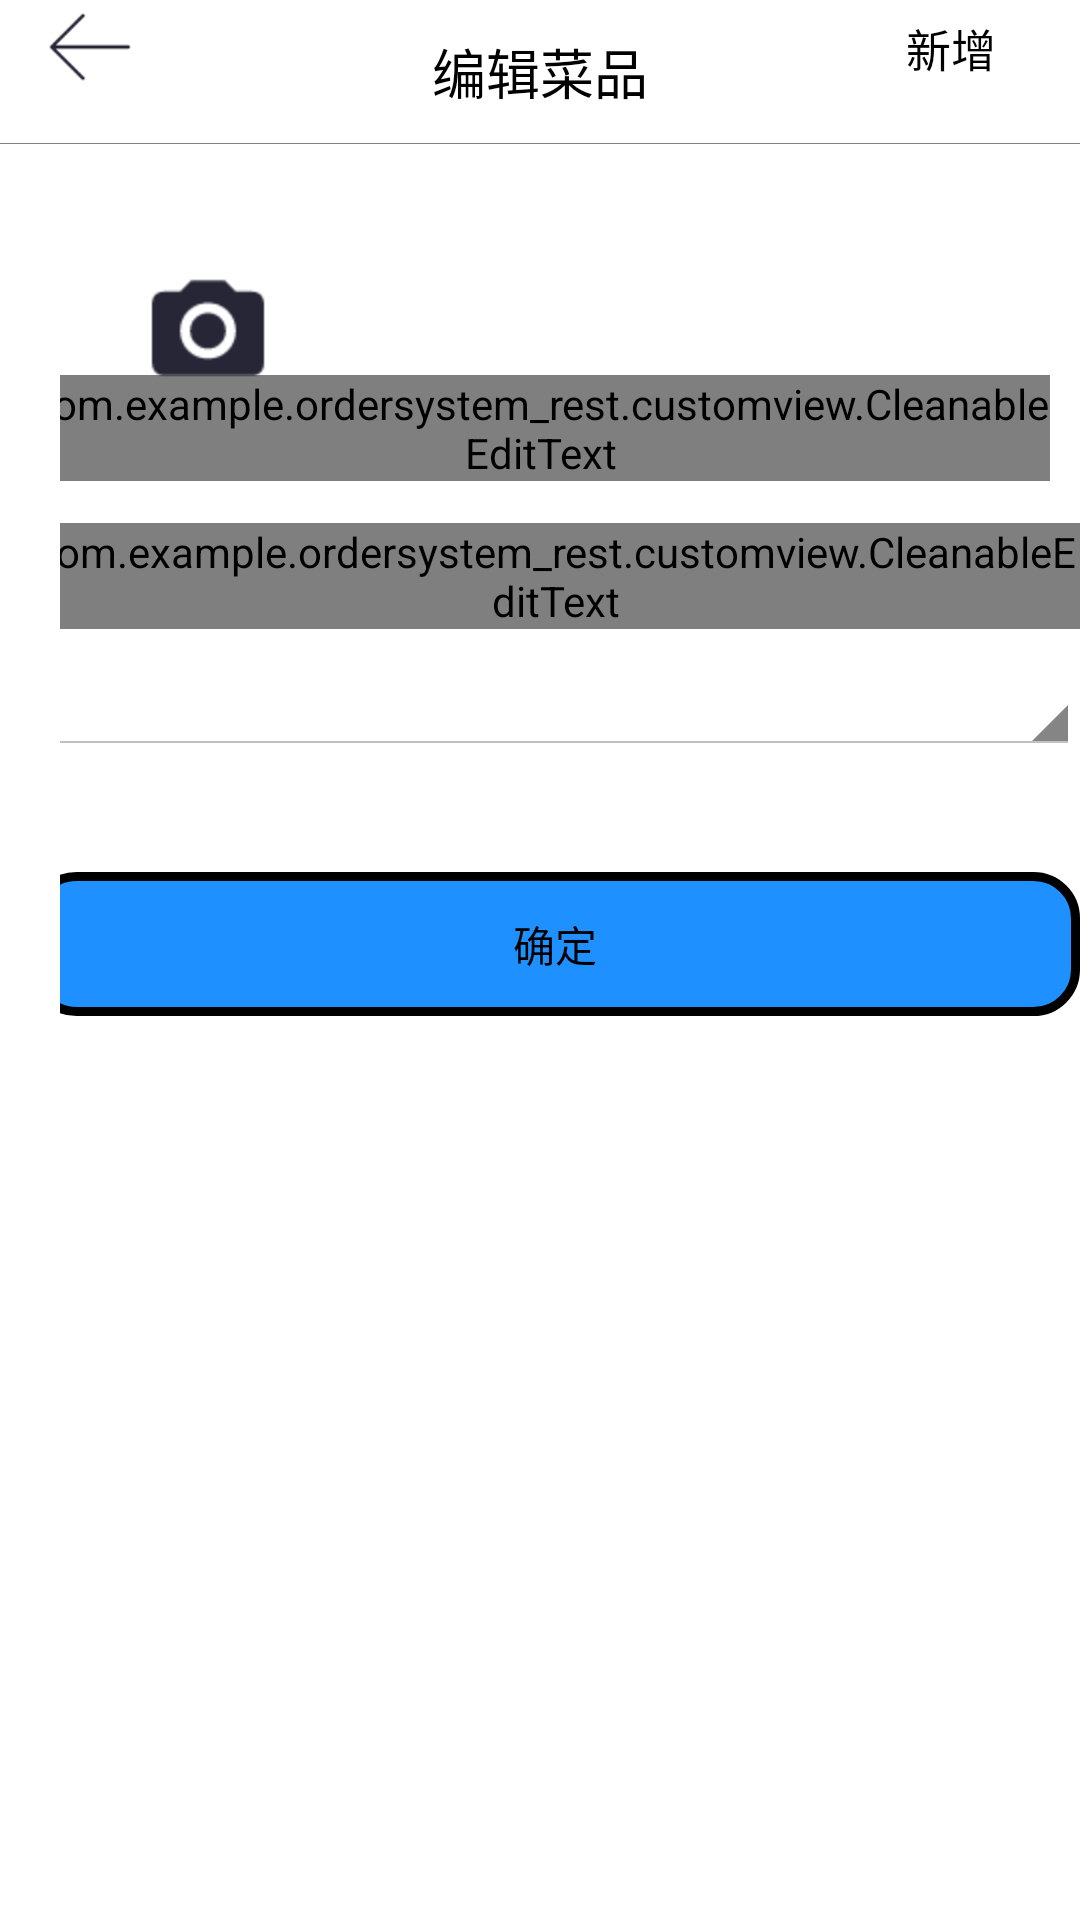

Point at icon controls on the screen. Image size 1080px x 1920px, points as [x,y].
left arrow: [90,47]
